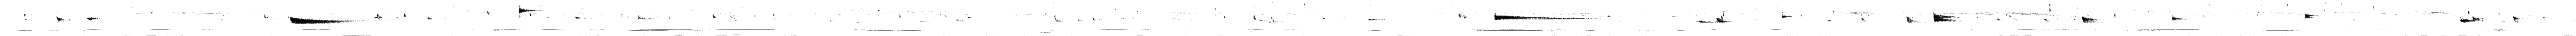meteor: (289, 16, 355, 25), (1493, 13, 1559, 21), (1934, 13, 1957, 23), (519, 5, 540, 15), (2459, 16, 2482, 23), (2081, 16, 2101, 23), (1715, 16, 1730, 23), (2305, 13, 2320, 20), (1906, 16, 1919, 23), (637, 15, 654, 20), (1053, 15, 1063, 23), (2172, 16, 2187, 21), (56, 16, 66, 21), (1782, 15, 1792, 20), (2512, 16, 2522, 21), (1699, 20, 1712, 23), (87, 16, 99, 20)
